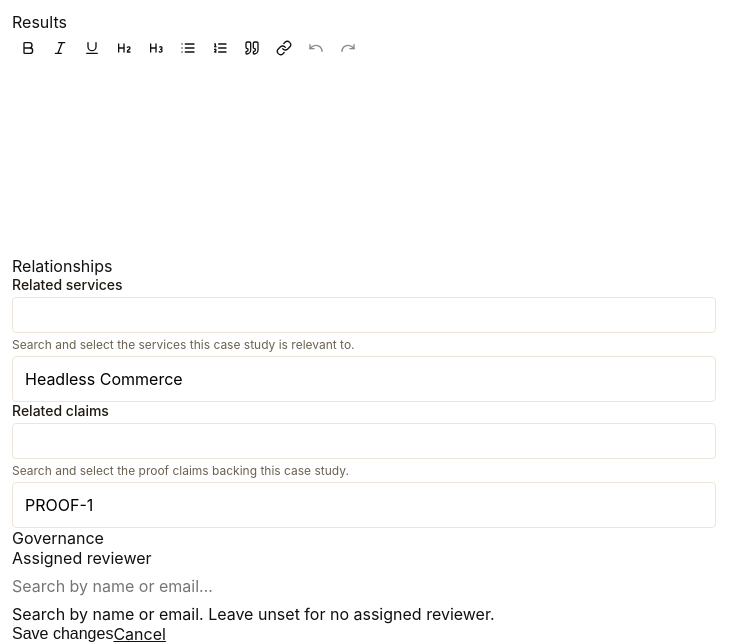
Test: CaseStudyStudioForm › shows the backend's error message and does not navigate on a failed submit
(page scrolled)
Step 1. Click the button "Save changes" → click(63, 634), box [12,625,113,643]
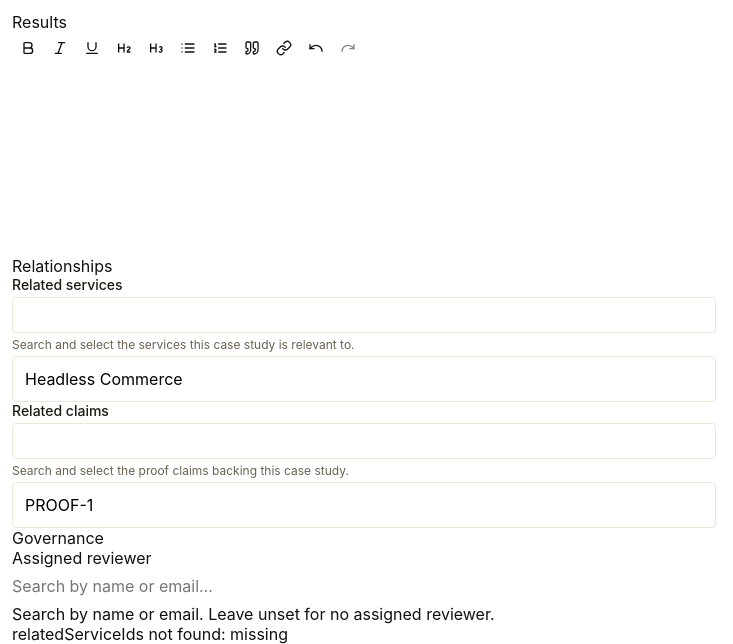
Result: the message reads "relatedServiceIds not found: missing" at [12,624,288,643]
